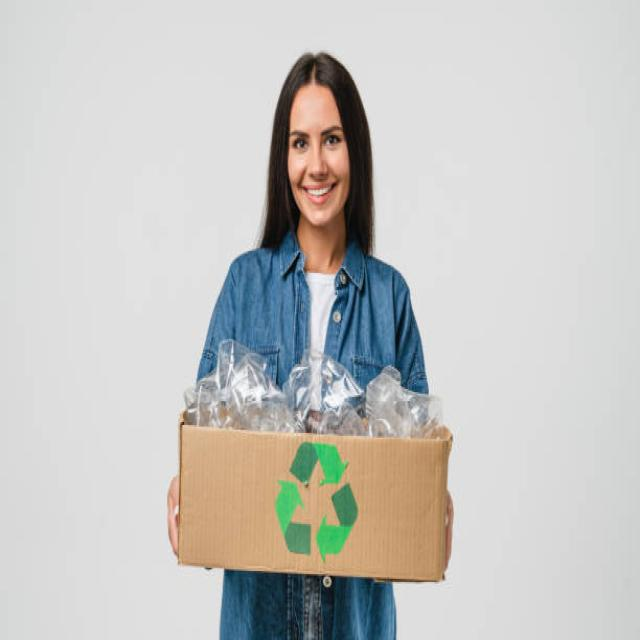plastic: (196, 333, 442, 428)
